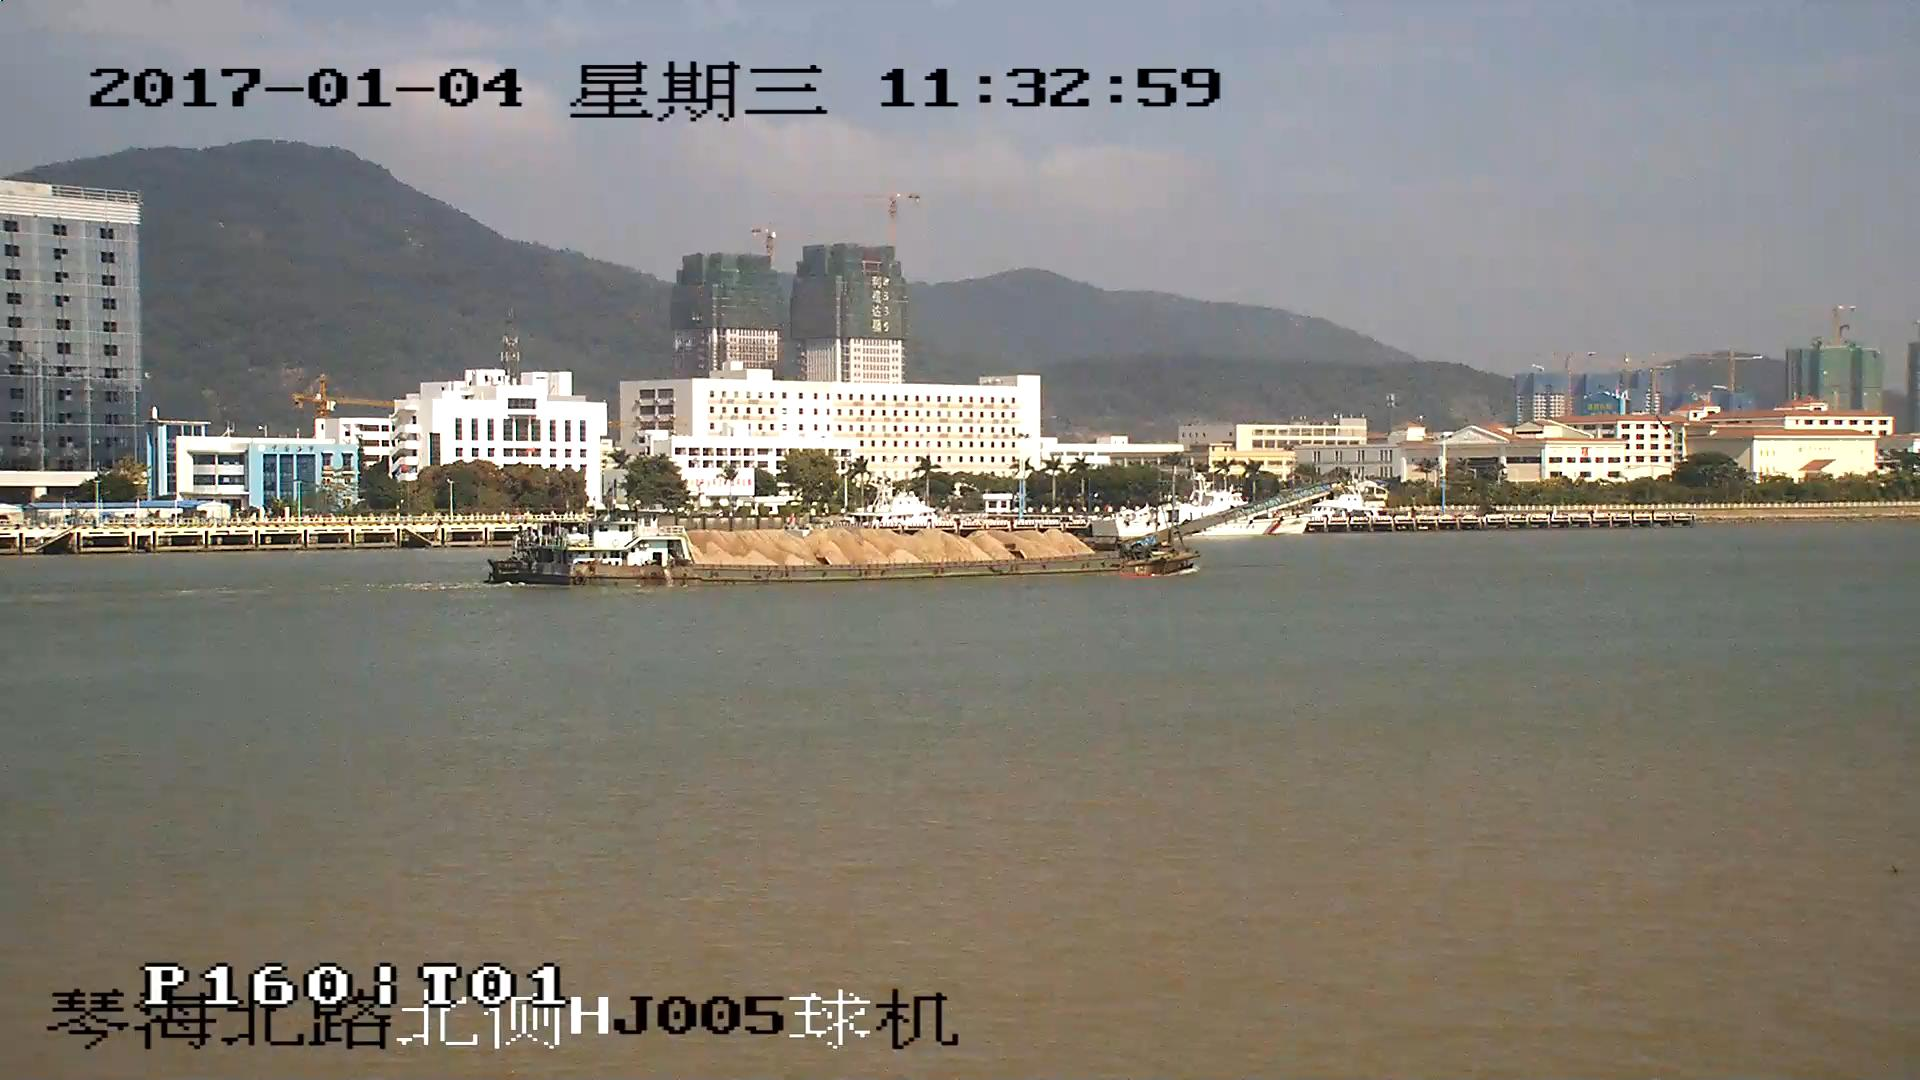ore carrier: (492, 486, 1329, 589)
